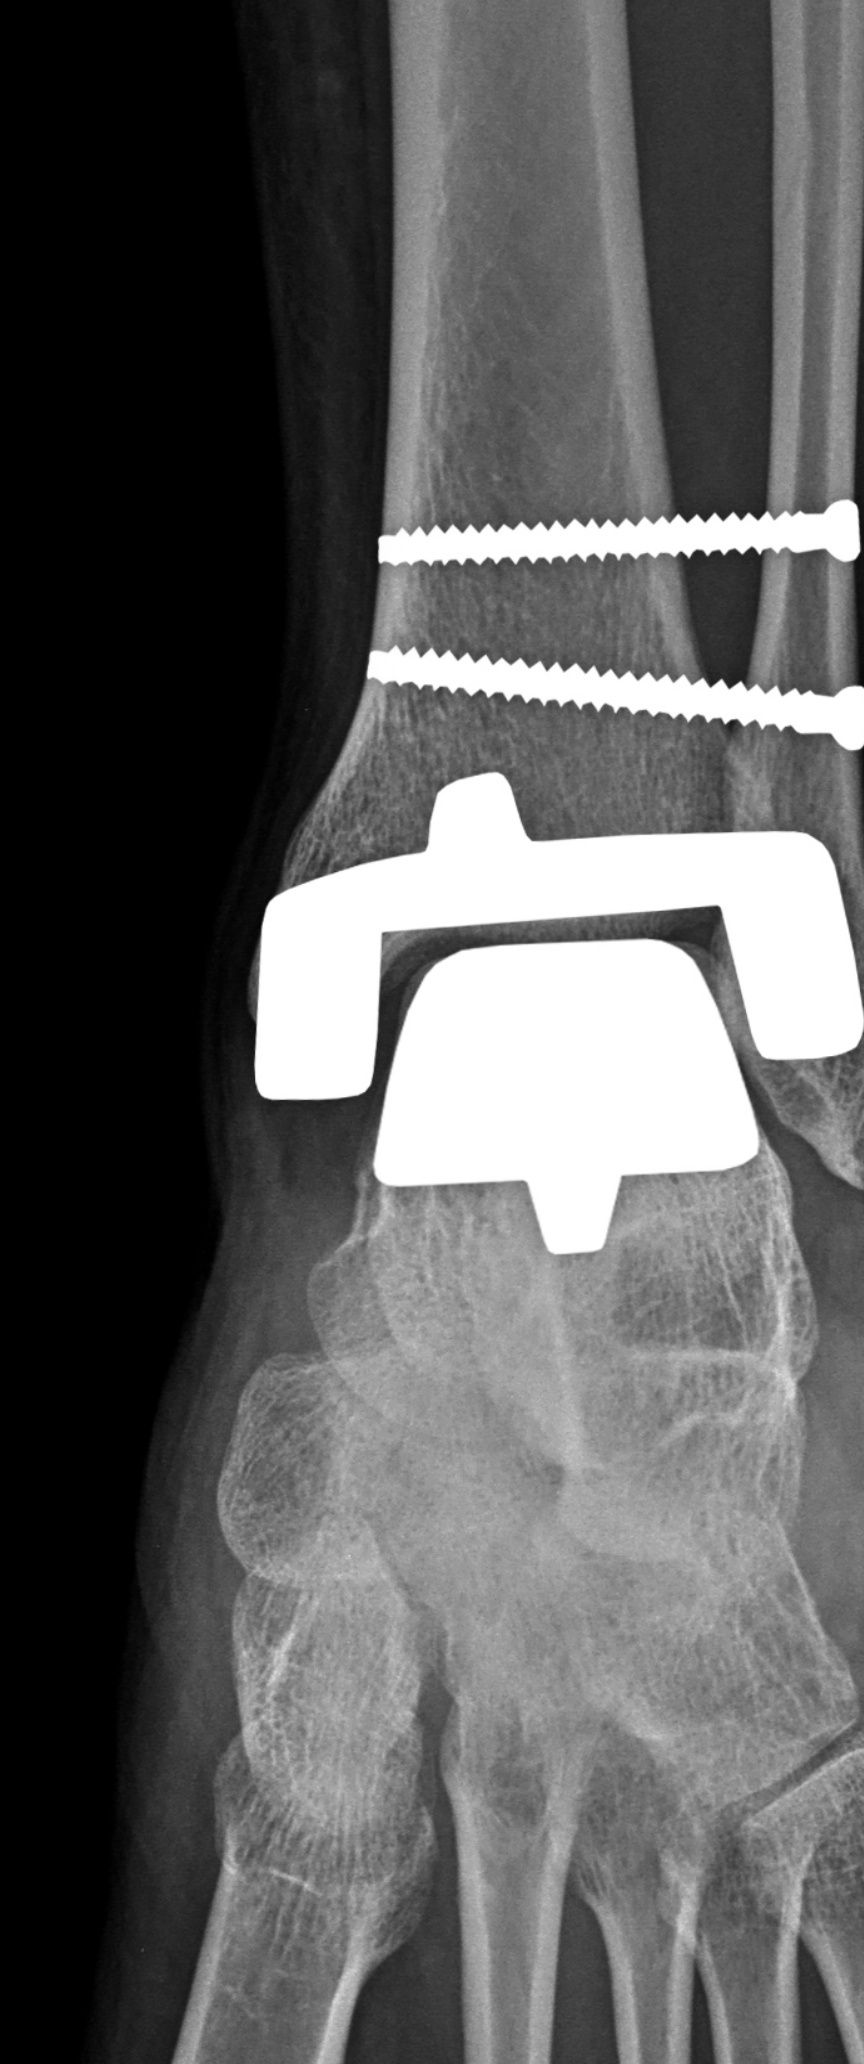Ankle - Agility - DePuy: (223, 482, 864, 1283)
